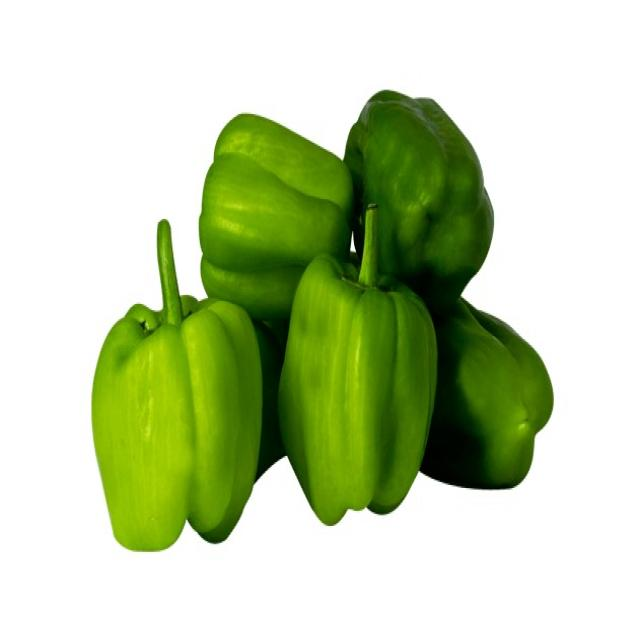bell pepper: (88, 215, 266, 554), (275, 199, 442, 532), (198, 110, 357, 314)
